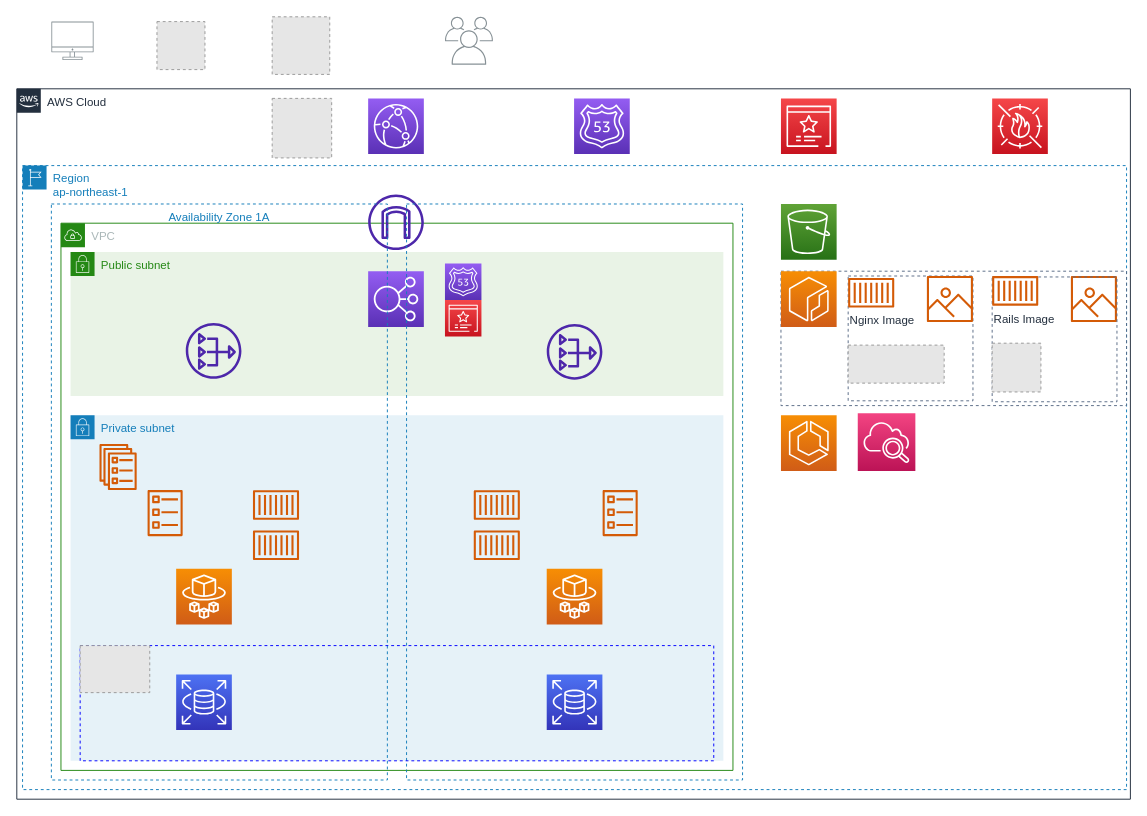
Image size: 1147x816. Some labels were removed from this diagram. Grey dashed boxes stand in for pictures. The shapes that lost their labels are listed below. From the top down, each one's box as (x1, y1, x2, y2) in pixels, then its label:
(51, 21, 93, 60): desktop
(444, 16, 492, 64): users
(780, 270, 837, 327): ECR
(406, 203, 743, 780): Availability Zone 1C
